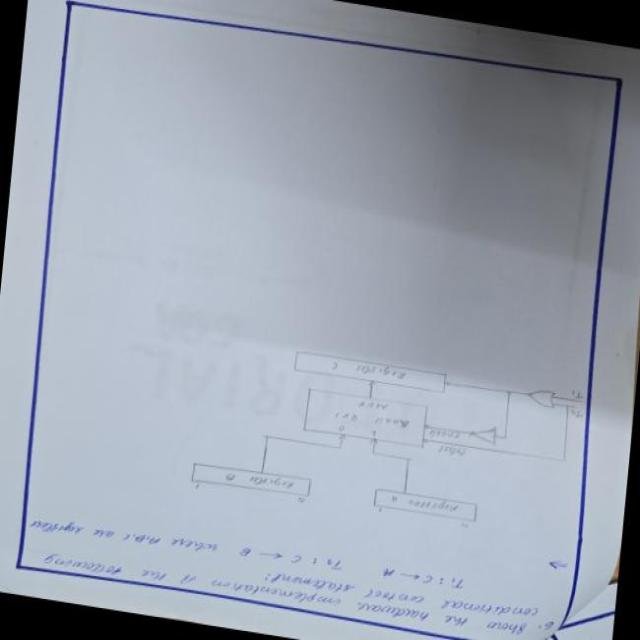Figure Detection - v3 Dataset Version2: (167, 318, 591, 556)
